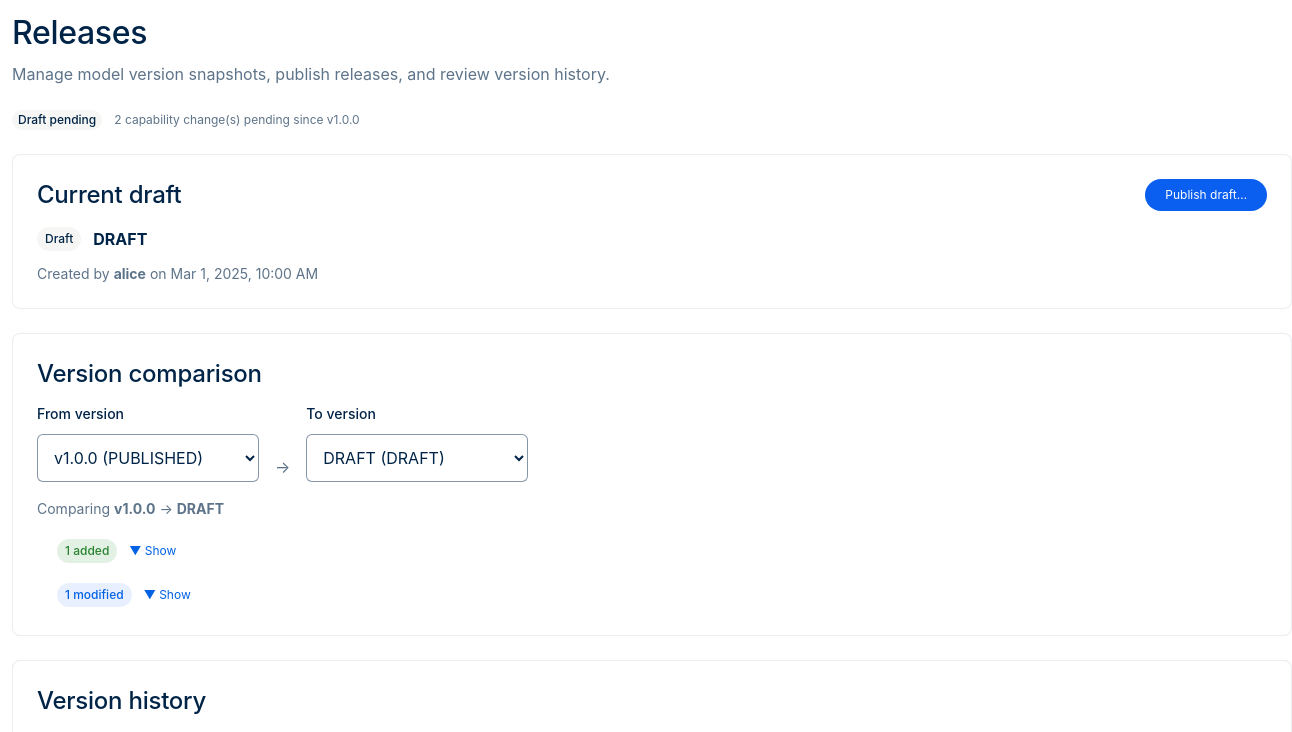
Test case: ReleaseDashboardPage – publish workflow › opens the publish form when "Publish draft…" is clicked
The width and height of the screenshot is (1292, 732).
Click the button "Publish draft…".
click(1206, 195)  # box [1145, 179, 1267, 211]
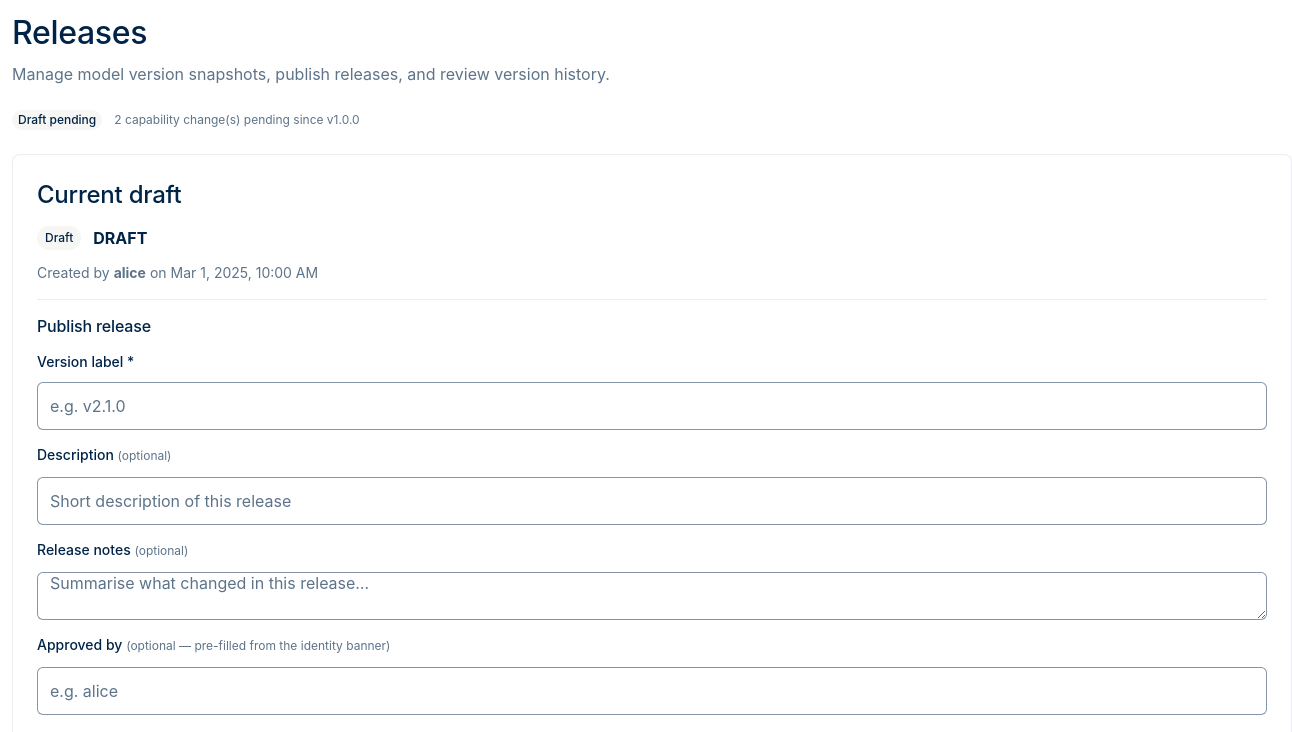
Expected: the field labelled "Version label *" is shown, [37, 382, 1267, 430]
